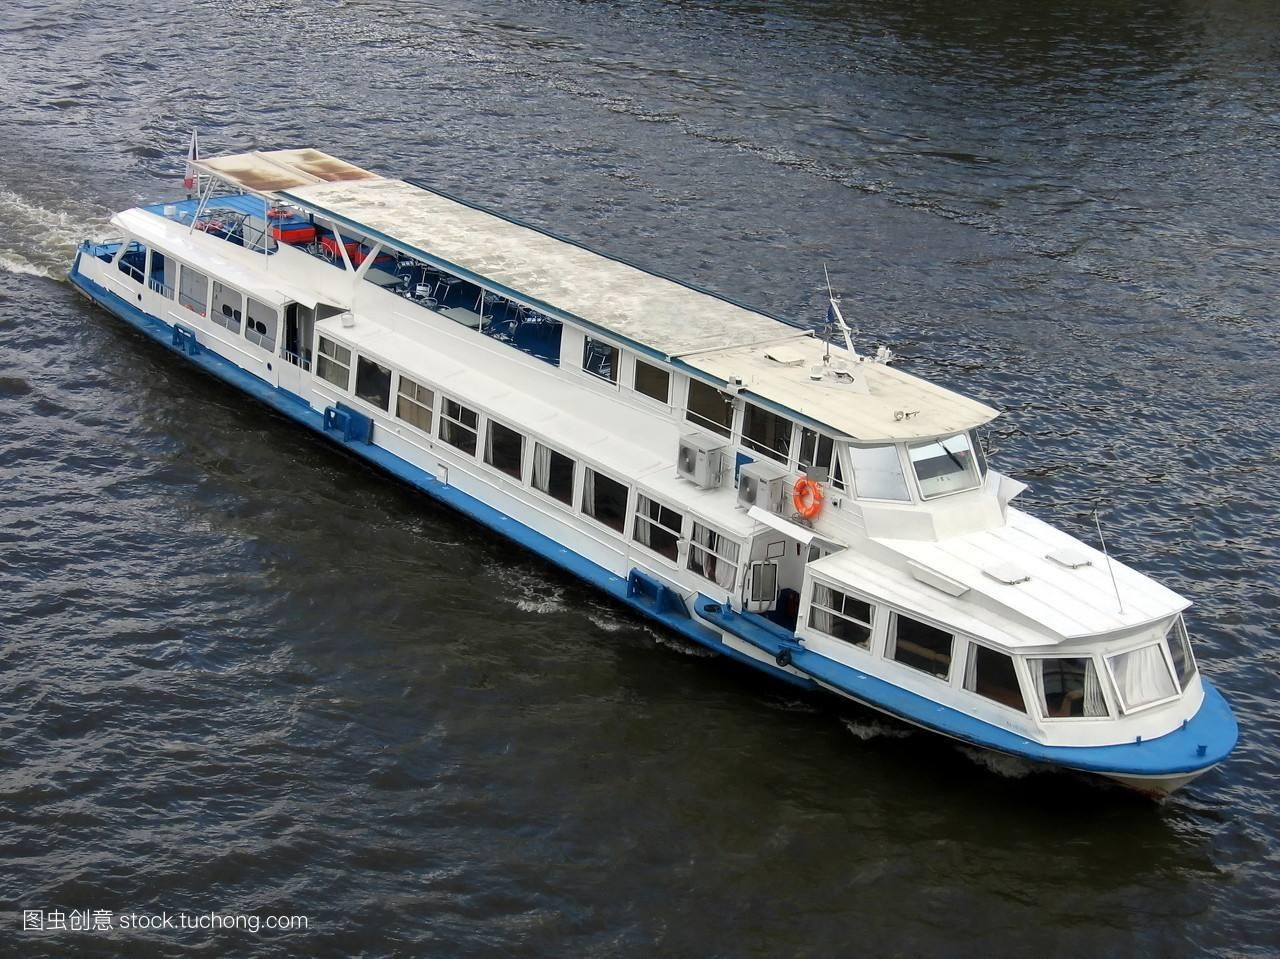otherboat: (81, 119, 1248, 789)
